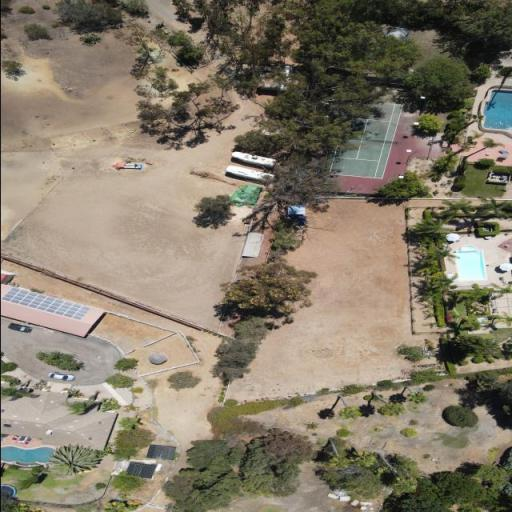solar-panel: (0, 287, 91, 320)
